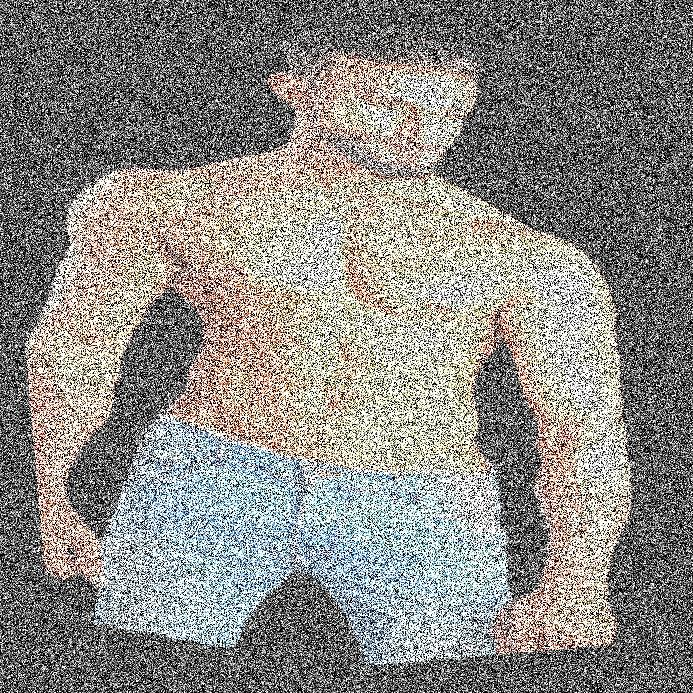Pessoa: (164, 0, 600, 692)
